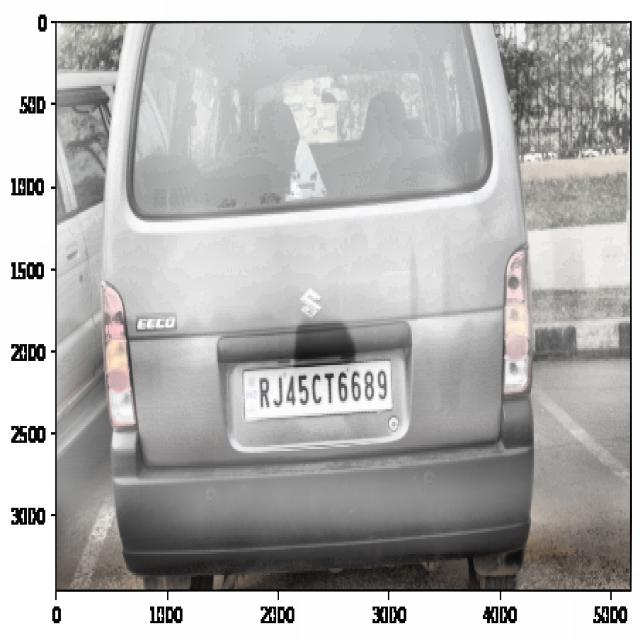license_plate: (252, 363, 392, 415)
